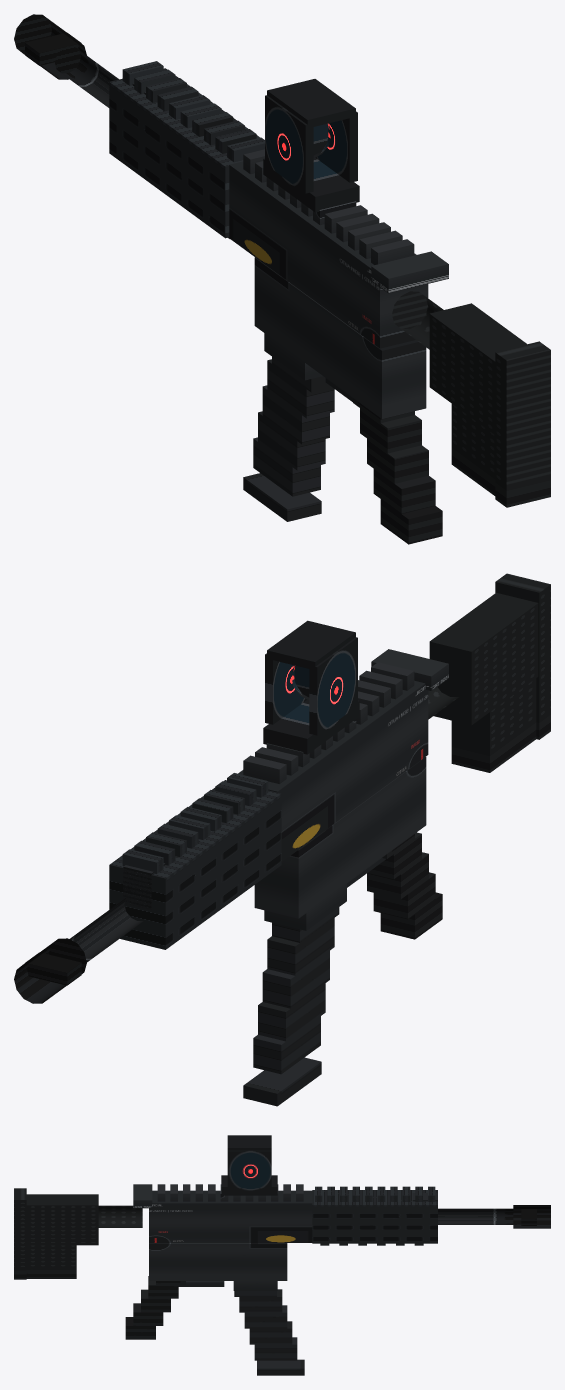
File: PlayerRifle_Custom.fbx
3 views of the same model, one above another, from view 1: azimuth 30°, elevation 25°; view 2: azimuth 150°, elevation 25°; view 3: azimuth 270°, elevation 25° (orthographic). The views are drawn at different scales.
Visible parts, largest first — view 1: PlayerRifle_Custom; view 2: PlayerRifle_Custom; view 3: PlayerRifle_Custom.
Boxes of the visible parts, x1=… form: PlayerRifle_Custom: x1=14, y1=14, x2=550, y2=544; PlayerRifle_Custom: x1=14, y1=573, x2=550, y2=1106; PlayerRifle_Custom: x1=14, y1=1135, x2=550, y2=1375.
Size of the model in its own units: 0.06 by 0.403 by 0.855.
